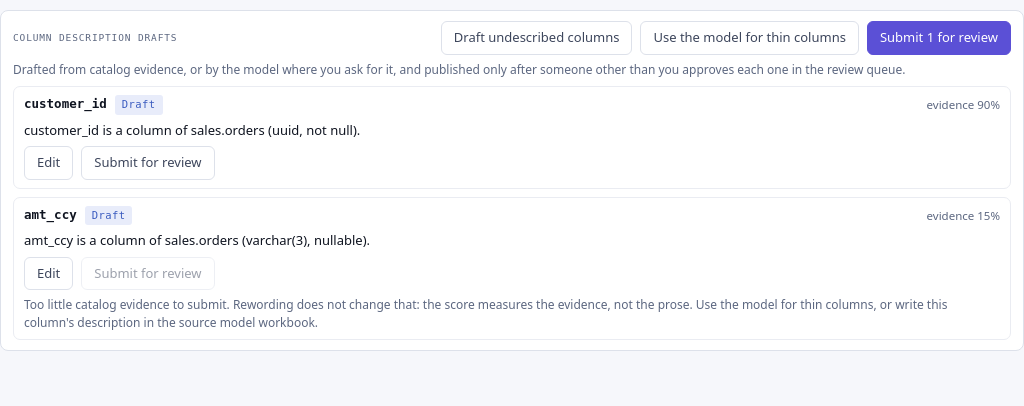
Test: ColumnDescriptionDrafts › submits a table's reviewable drafts in one action and says approval is someone else's
Click the button "Submit 1 for review" at (939, 38), box [867, 21, 1011, 54]
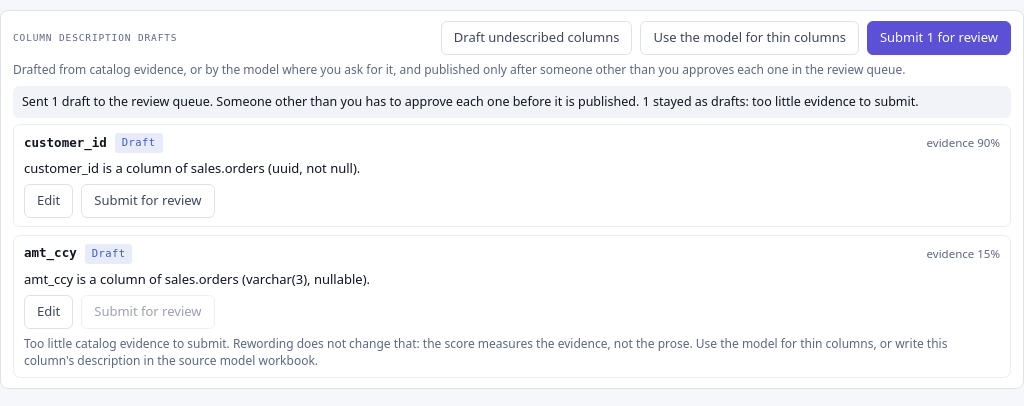
Expected: the message shows "Sent 1 draft to the review queue.", [22, 93, 919, 110]
Expected: the message shows "Someone other than you has to approve each one", [22, 93, 919, 110]
Expected: the message shows "1 stayed as drafts", [22, 93, 919, 110]
